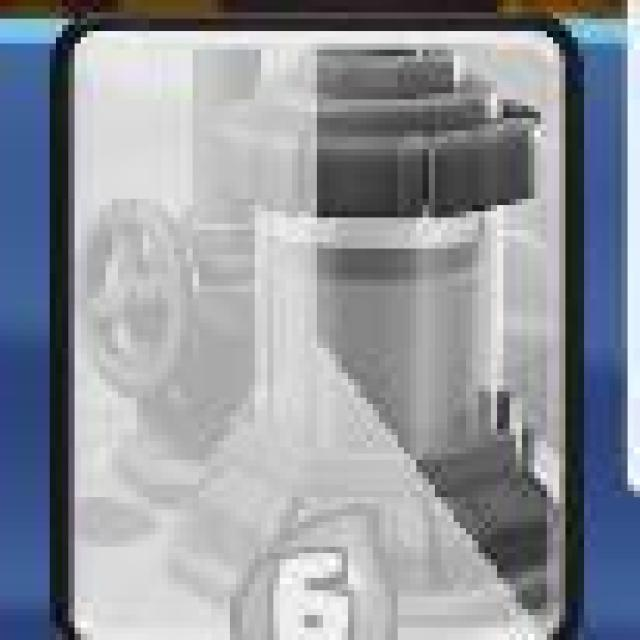Elixir_Pump: (51, 13, 586, 640)
